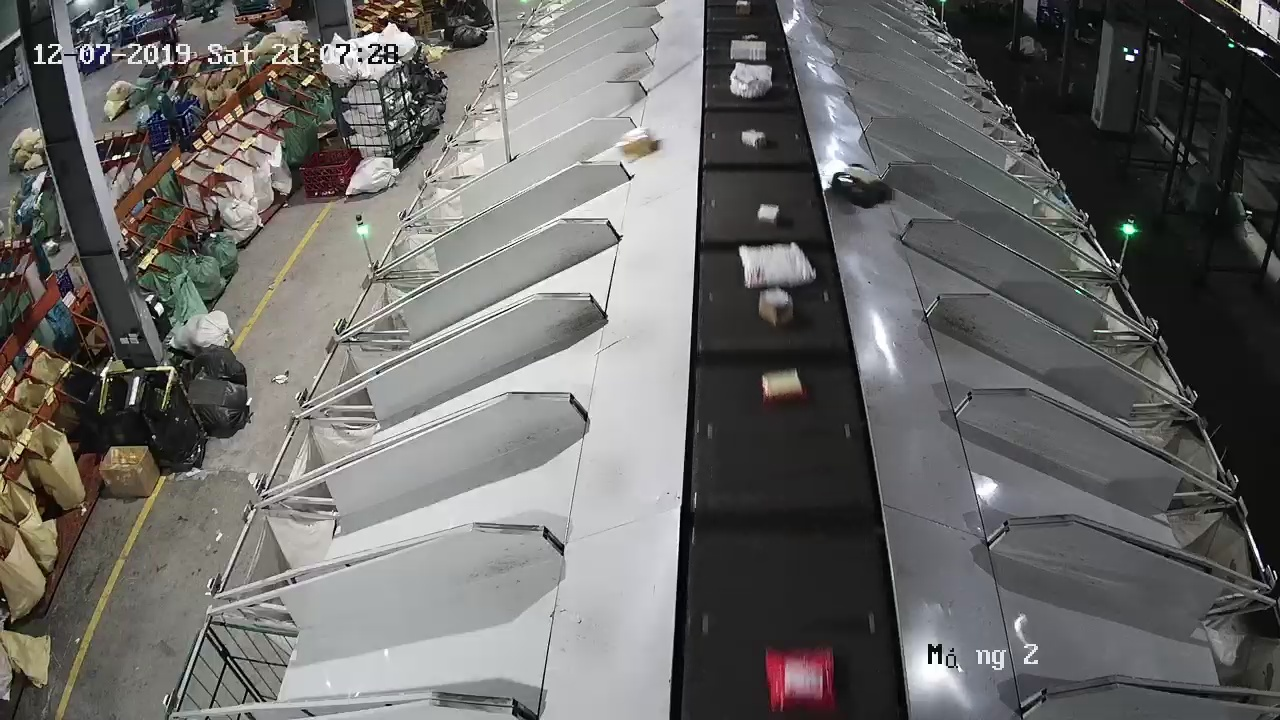parcel: (830, 162, 894, 210), (615, 125, 656, 162)
